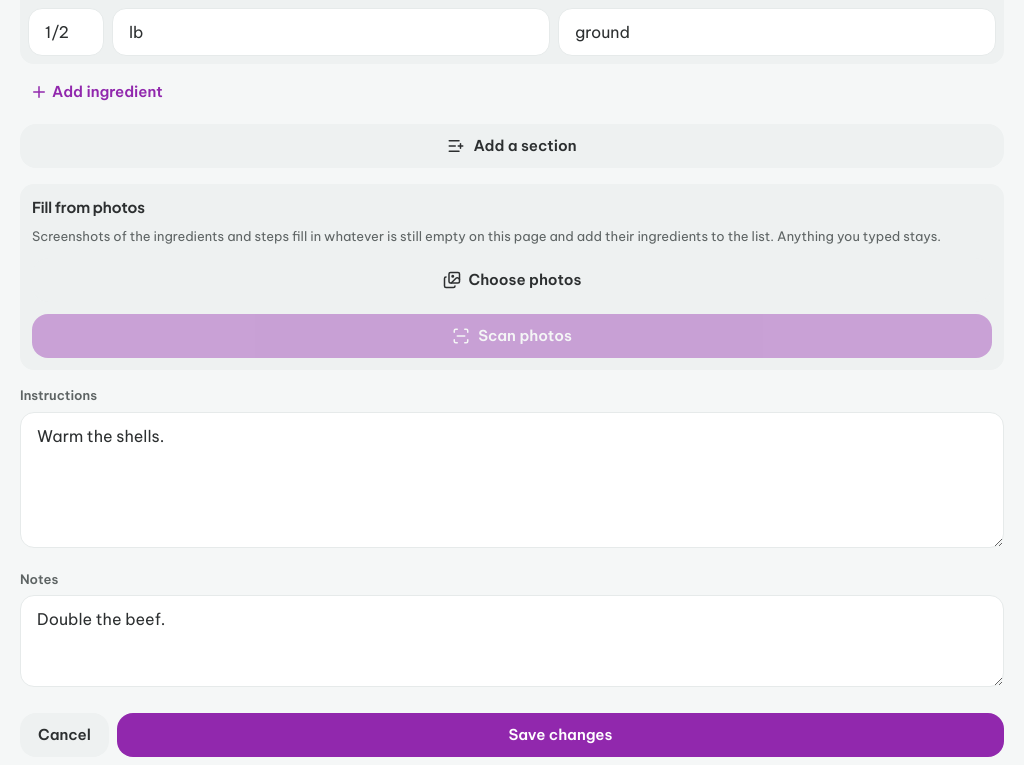
Test: RecipeEditPage › a save error stays on the page with a toast
(page scrolled)
Click the button "Save changes" at (560, 735), box [117,713,1004,757]
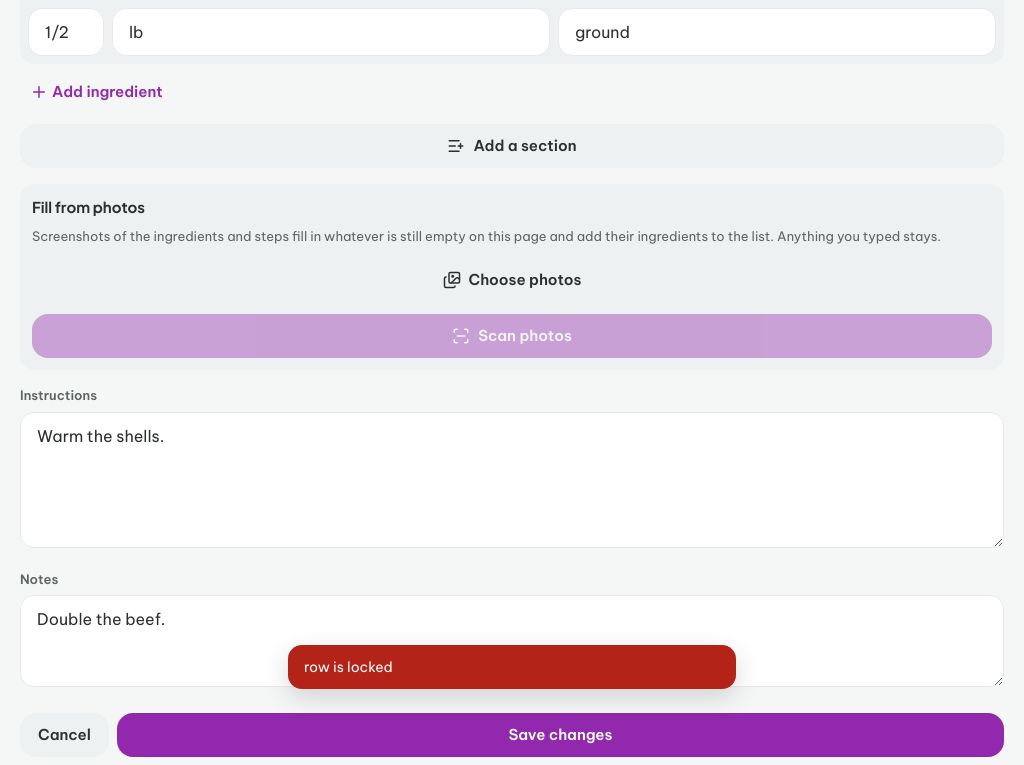
Check: the message reads "row is locked", box [304,658,393,676]
